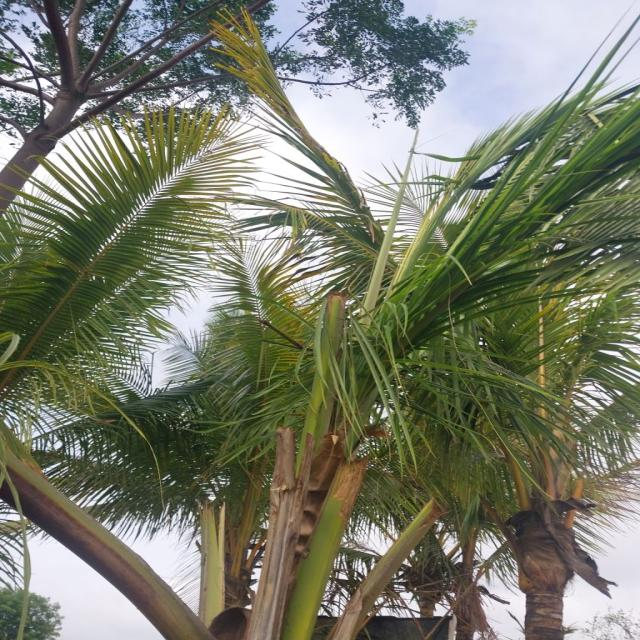bud rot: (245, 295, 367, 640), (3, 454, 215, 640), (330, 501, 438, 640)
